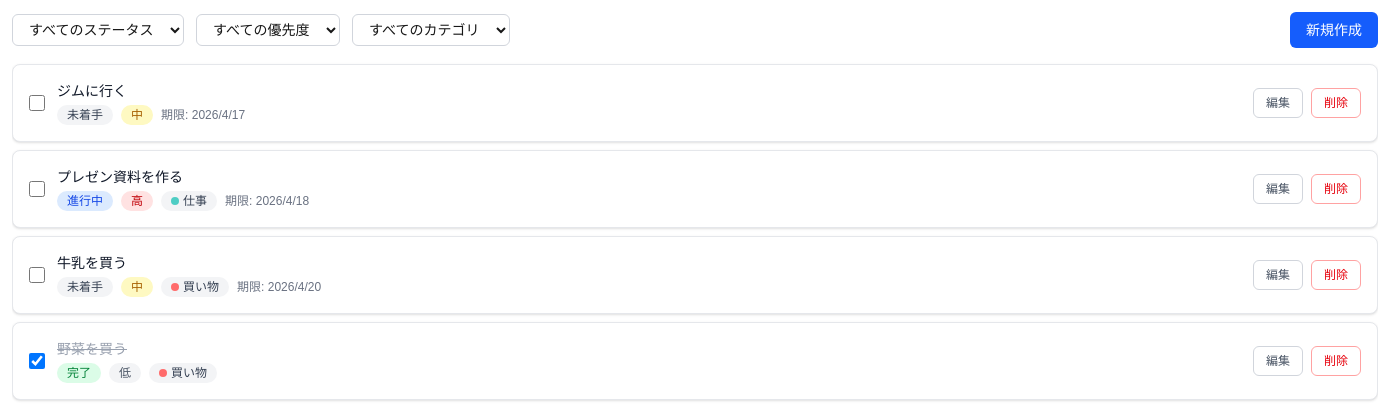
Test case: TodoList › TODOがない場合は空メッセージが表示される
The width and height of the screenshot is (1378, 418).
Expected: the heading "牛乳を買う" is shown, [57, 253, 127, 273]
# 存在しないカテゴリでフィルタ
Select "高" in the dropdown named "優先度フィルター": (268, 30) [196, 14, 340, 46]
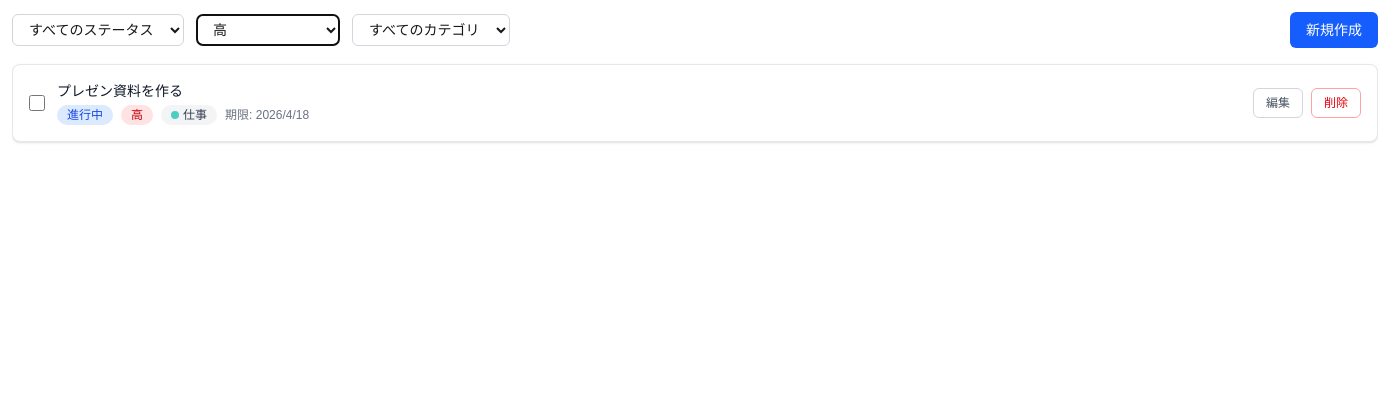
Select "完了" in the dropdown named "ステータスフィルター": (98, 30) [12, 14, 184, 46]
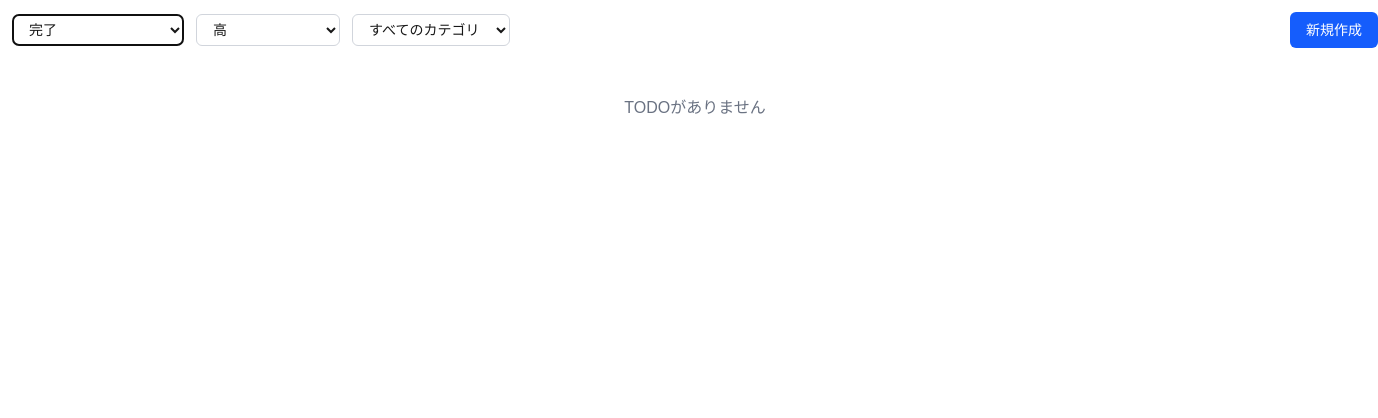
Expected: the text "TODOがありません" is shown, [624, 99, 766, 116]
